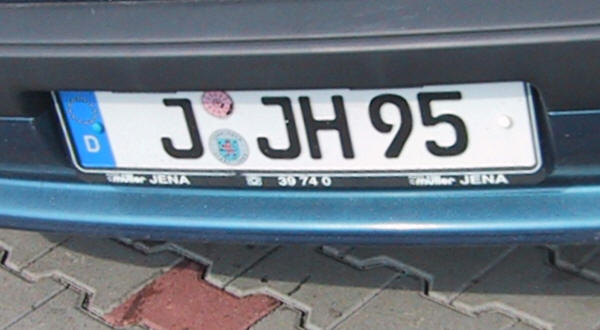license_plate: (51, 80, 543, 175)
